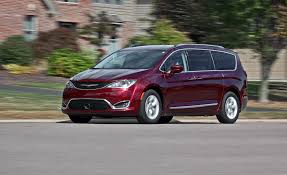car: (57, 41, 250, 127)
